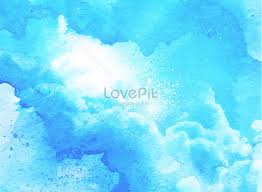sky: (2, 3, 259, 191)
